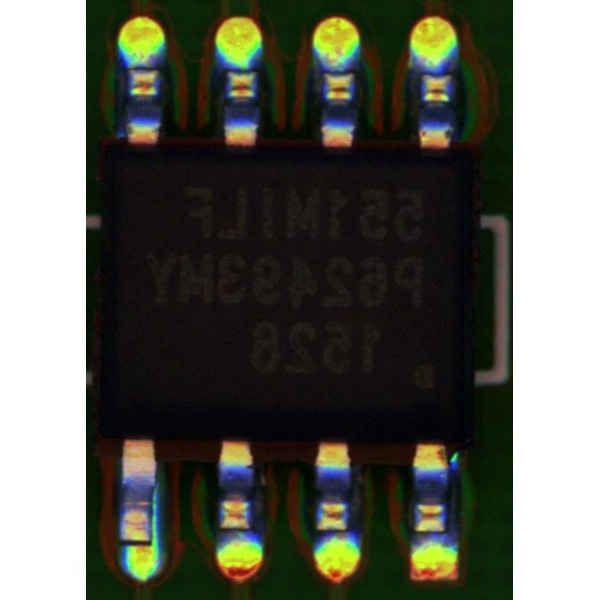Bad_podu: (125, 533, 152, 555)
Bad_qiaojiao: (151, 483, 158, 540)
